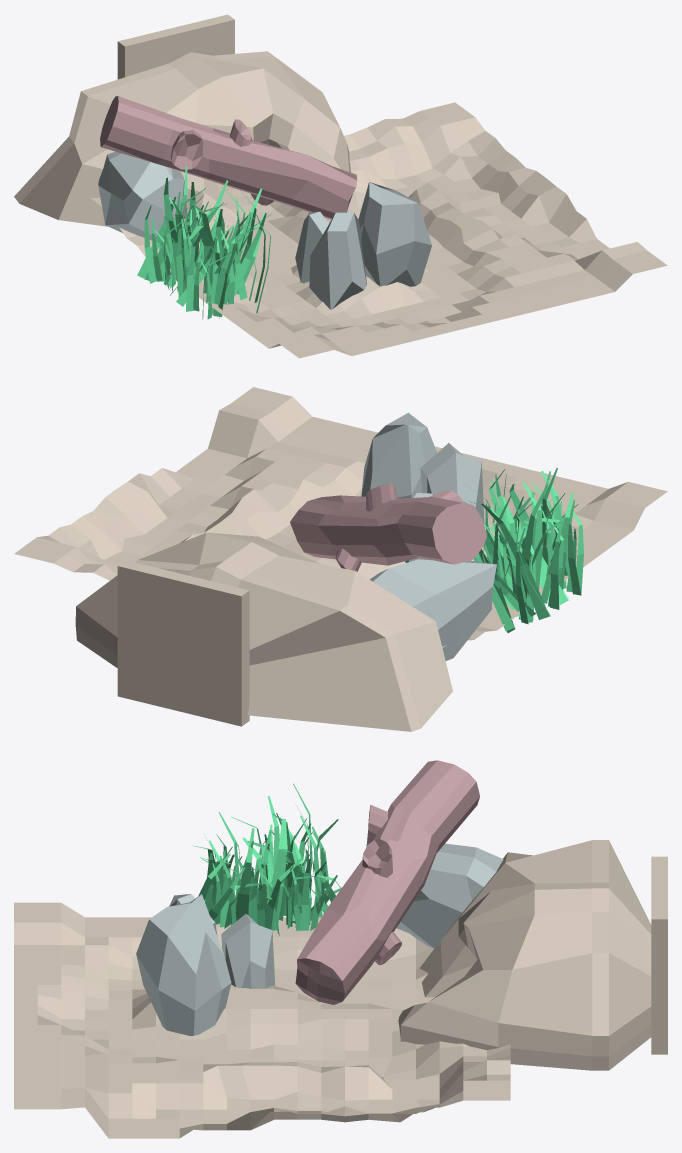
The model's file is 041920scene01GroundDraft.gltf.
3 views of the same model, one above another, from view 1: azimuth 30°, elevation 25°; view 2: azimuth 150°, elevation 25°; view 3: azimuth 270°, elevation 25° (orthographic). The views are drawn at different scales.
Parts seen in each view (by area): view 1: Plane, Cube.005, Cube.003, Cube.001, Cube.004, Cube.007, Cube, Cube.002; view 2: Plane, Cube.005, Cube.007, Cube.003, Cube.004, Cube.001, Cube, Plane.575, Plane.590, Plane.599, Plane.644, Plane.604; view 3: Plane, Cube.005, Cube.003, Cube.001, Cube.004, Cube.007, Cube.002, Plane.155, Plane.157.
Boxes of the visible parts, x1,y1,x2,y2 form: Plane: (90,102,667,358); Cube.005: (14,51,350,228); Cube.003: (100,96,357,219); Cube.001: (358,182,431,286); Cube.004: (98,151,187,240); Cube.007: (117,14,234,79); Cube: (309,212,366,309); Cube.002: (295,211,328,283); Plane: (14,387,667,647); Cube.005: (75,532,452,731); Cube.007: (117,560,249,726); Cube.003: (290,483,486,571); Cube.004: (370,558,496,660); Cube.001: (361,412,436,498); Cube: (420,443,484,524); Plane.575: (481,503,549,619); Plane.590: (550,517,563,609); Plane.599: (523,482,542,589); Plane.644: (568,499,581,595); Plane.604: (520,485,547,603); Plane: (14,902,510,1138); Cube.005: (398,840,651,1070); Cube.003: (295,760,479,1004); Cube.001: (136,894,231,1036); Cube.004: (396,843,503,948); Cube.007: (651,856,667,1054); Cube.002: (221,914,275,988); Plane.155: (269,818,287,930); Plane.157: (235,828,254,921).
Bounding box in the file's own units: 64.89 × 25.19 × 79.
